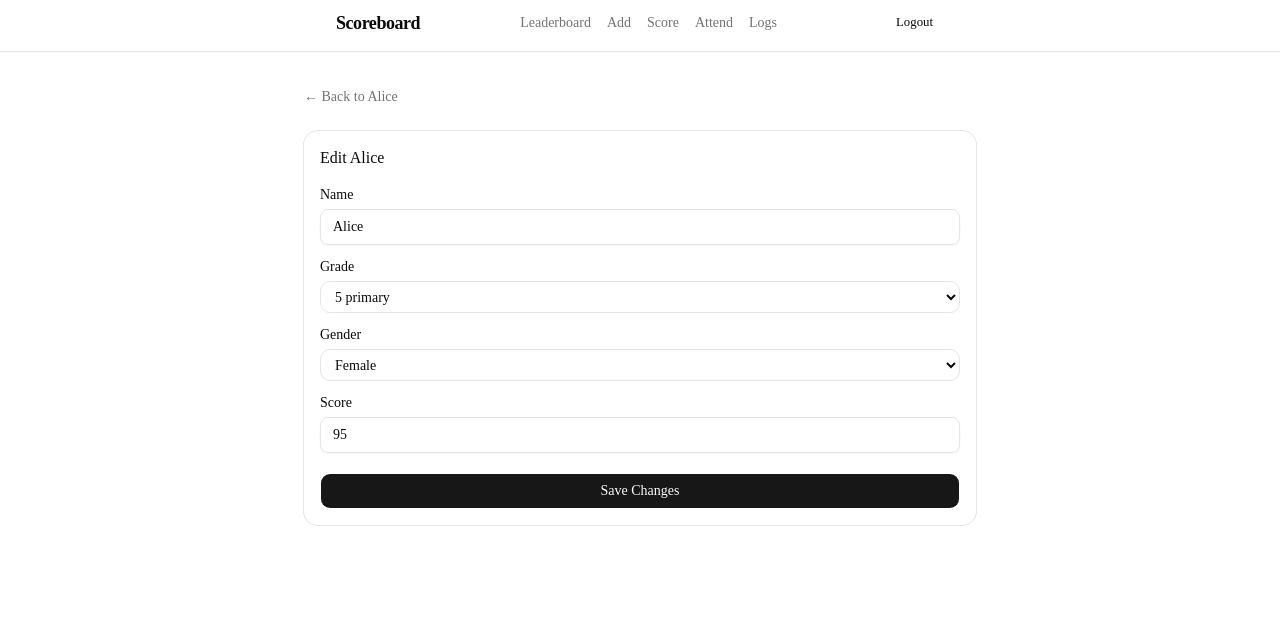
Test: EditPage › shows error on submission failure
Expected: the text "Edit Alice" is shown, left=320, top=149, right=384, bottom=166
Click the button "Save Changes" at (640, 491), box left=320, top=473, right=960, bottom=509
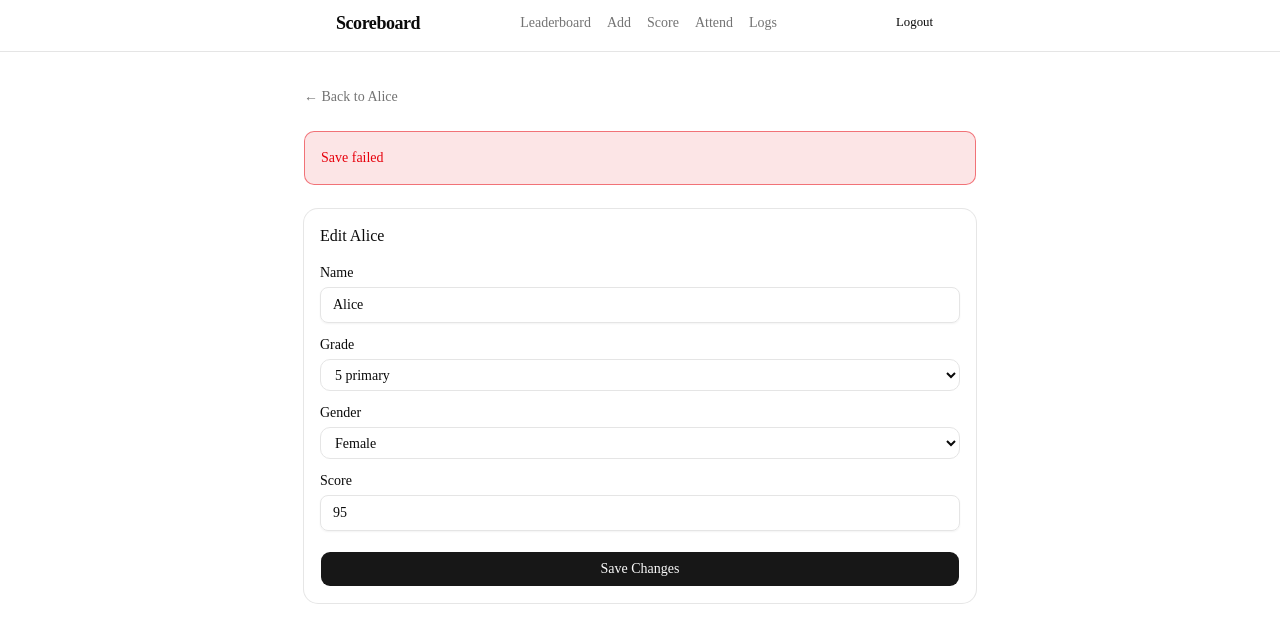
Expected: the text "Save failed" is shown, left=304, top=131, right=976, bottom=185
